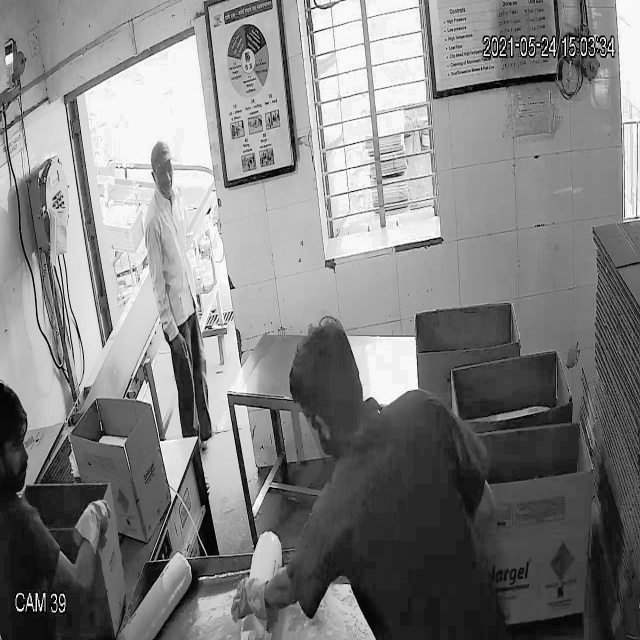Sin_gafas: (153, 161, 174, 185)
